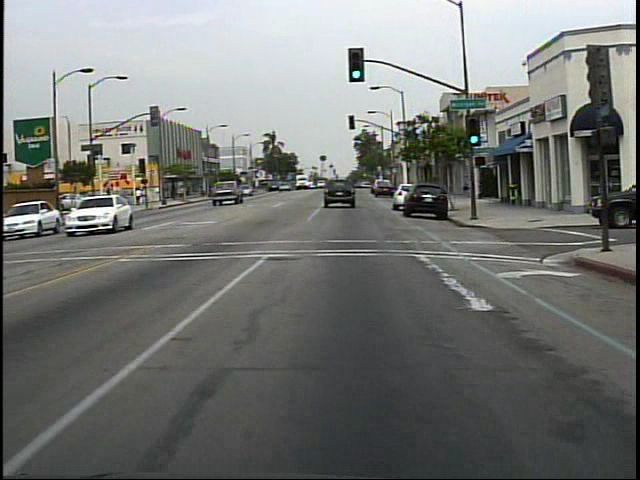person: (133, 184, 149, 209)
